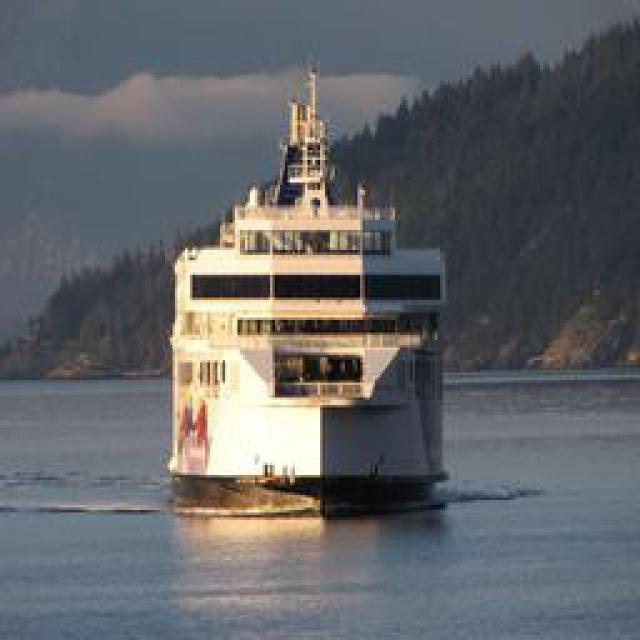Ship: (167, 36, 457, 529)
